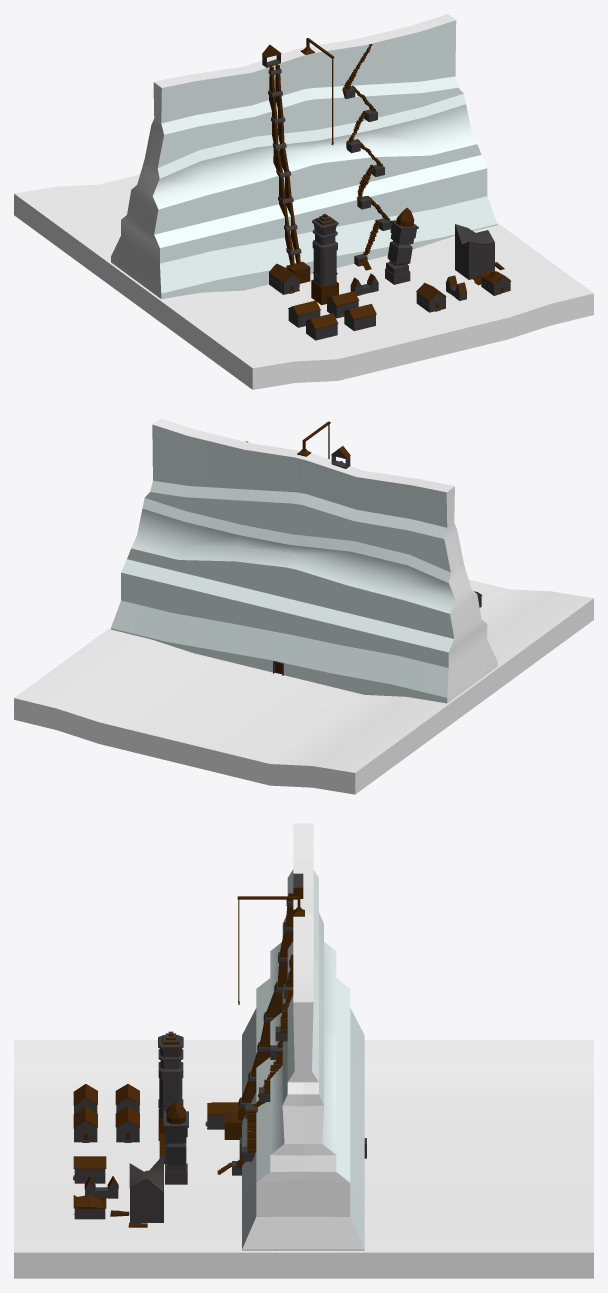
Rendered from The Wall.FBX.
3 views of the same model, one above another, from view 1: azimuth 30°, elevation 25°; view 2: azimuth 150°, elevation 25°; view 3: azimuth 270°, elevation 25° (orthographic). The views are drawn at different scales.
Visible parts, largest first — view 1: The Wall, Floor, Castle Black, Lift, Stair, Lord Commander's Tower; view 2: The Wall, Floor; view 3: Floor, The Wall, Castle Black, Lift, Stair, Lord Commander's Tower, Crane.
Boxes of the visible parts, x1,y1,x2,y2 form: The Wall: (111,14,497,298); Floor: (14,174,593,389); Castle Black: (269,207,511,340); Lift: (262,44,310,283); Stair: (342,44,391,270); Lord Commander's Tower: (455,224,504,285); The Wall: (111,418,497,703); Floor: (14,579,593,794); Floor: (14,1040,593,1278); The Wall: (239,823,366,1250); Castle Black: (73,1031,238,1219); Lift: (224,873,303,1139); Stair: (217,954,293,1175); Lord Commander's Tower: (110,1155,163,1227); Crane: (237,896,304,1004).
Bounding box in the file's own units: 4700 × 3119 × 5695.
